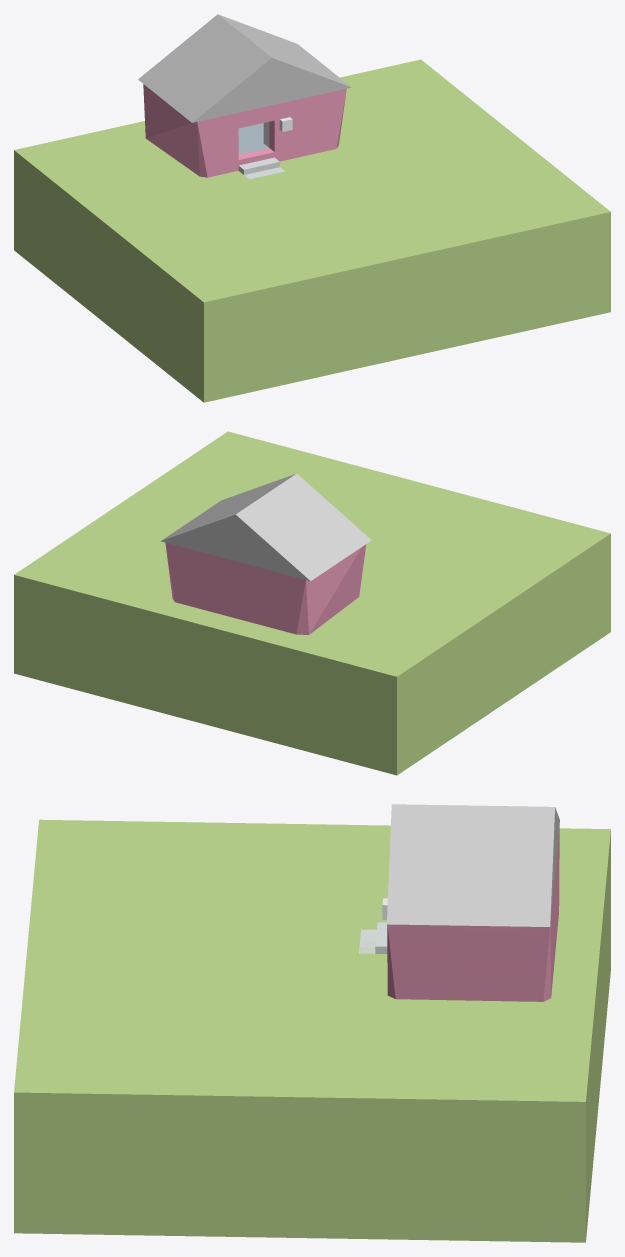
File: pinkhouse.dae
3 renders of one model, top to bottom at view 1: azimuth 30°, elevation 25°; view 2: azimuth 150°, elevation 25°; view 3: azimuth 270°, elevation 25°, orthographic. The views are drawn at different scales.
Visible parts, largest first — view 1: mesh1057736590; view 2: mesh1057736590; view 3: mesh1057736590.
Part boxes in pixels (x1=…): mesh1057736590: x1=14, y1=14, x2=610, y2=402; mesh1057736590: x1=14, y1=431, x2=610, y2=775; mesh1057736590: x1=14, y1=804, x2=610, y2=1242.
Size of the model in its own units: 0.8166 by 0.7301 by 0.39.
